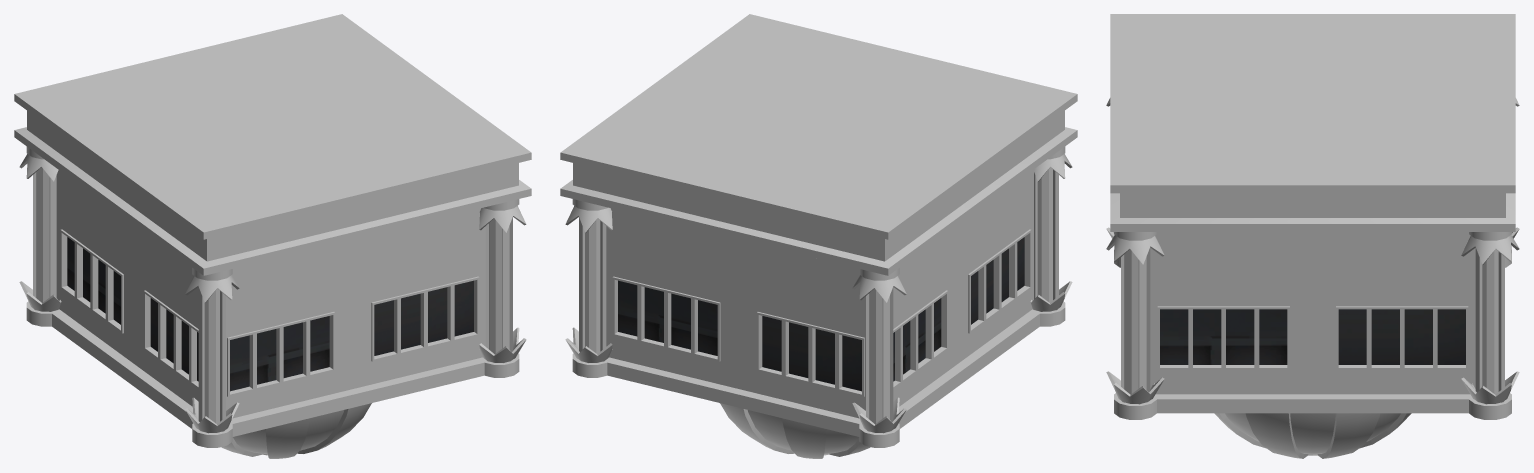
File: SM_PD_Scoreboard_01.fbx
3 renders of one model, left to right at view 1: azimuth 30°, elevation 25°; view 2: azimuth 150°, elevation 25°; view 3: azimuth 270°, elevation 25°, orthographic. The views are drawn at different scales.
Visible parts, largest first — view 1: SM_PD_Scoreboard_01; view 2: SM_PD_Scoreboard_01; view 3: SM_PD_Scoreboard_01.
Boxes of the visible parts, x1,y1,x2,y2 form: SM_PD_Scoreboard_01: (14, 14, 531, 458); SM_PD_Scoreboard_01: (560, 14, 1077, 458); SM_PD_Scoreboard_01: (1106, 14, 1519, 458).
Bounding box in the file's own units: 1244 × 1154 × 1244.
